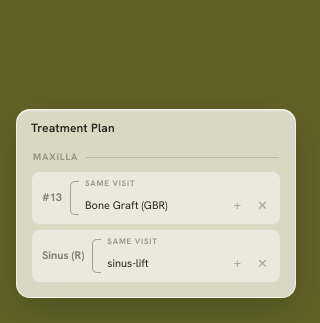
Scenario: TreatmentPanel — same-visit MediSave bundles › an area row already in a visit keeps the menu, but only to leave it
Click the button with class "trx-add" next to "sinus-lift".
click(237, 264)  # box [230,255,245,272]
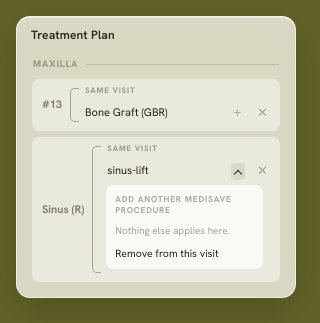
Result: the text "Nothing else applies here." is shown at [115,224,230,237]
